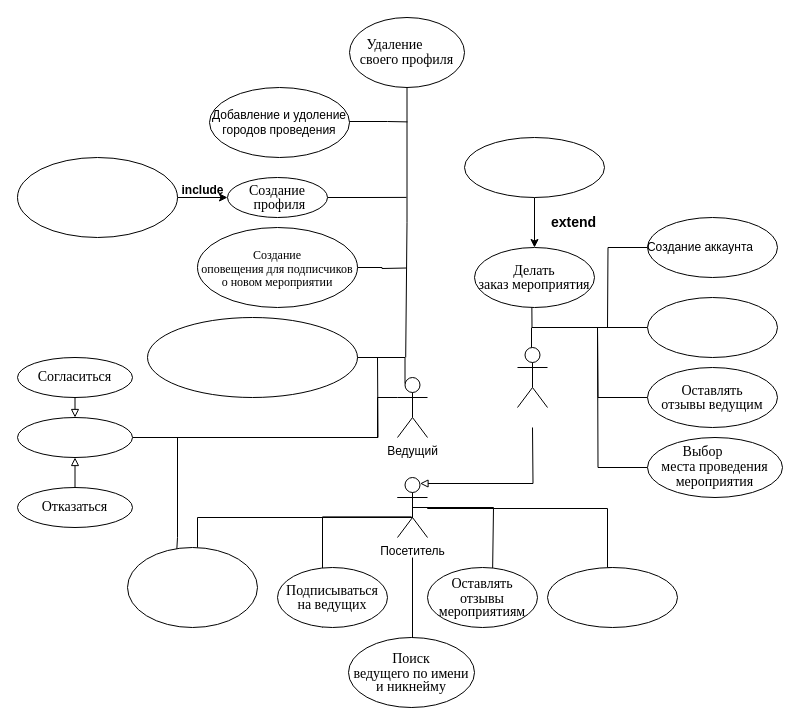
Image size: 800x726. Some labels were removed from this diagram. Here are the shapes that lost their labels. From the top down, the box of each, then its label:
(464, 136, 604, 198): Просмотреть приблизительную сумму оплаты
(16, 156, 178, 238): Выставлять приблизительную сумму своей работы
(646, 296, 778, 358): Выставление оценки ведущему
(146, 316, 358, 398): Публикация на своем профиле фотографий и комментариев проведенного мероприятия
(516, 346, 548, 408): Заказчк
(16, 416, 132, 458): Ответить на заказ
(126, 546, 258, 628): Просматривать профили ведущих
(546, 566, 678, 628): Выбор тематики мероприятия
